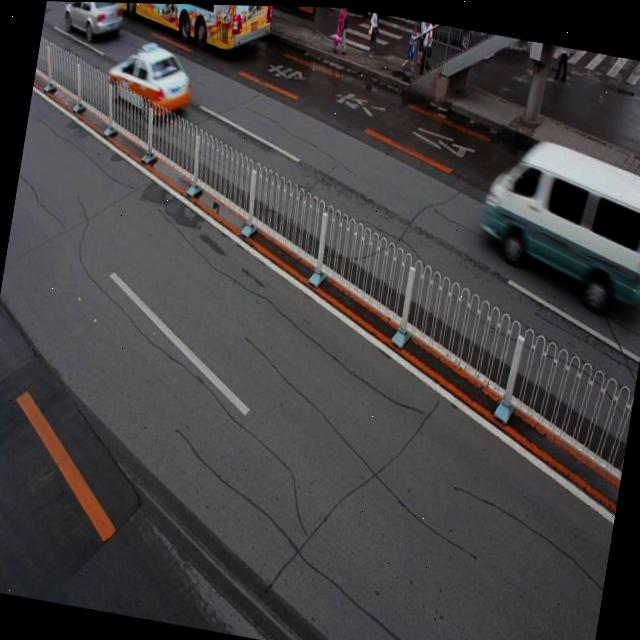car: (103, 34, 198, 123), (61, 1, 127, 45)
truck: (471, 129, 640, 309)
van: (113, 2, 274, 57)
